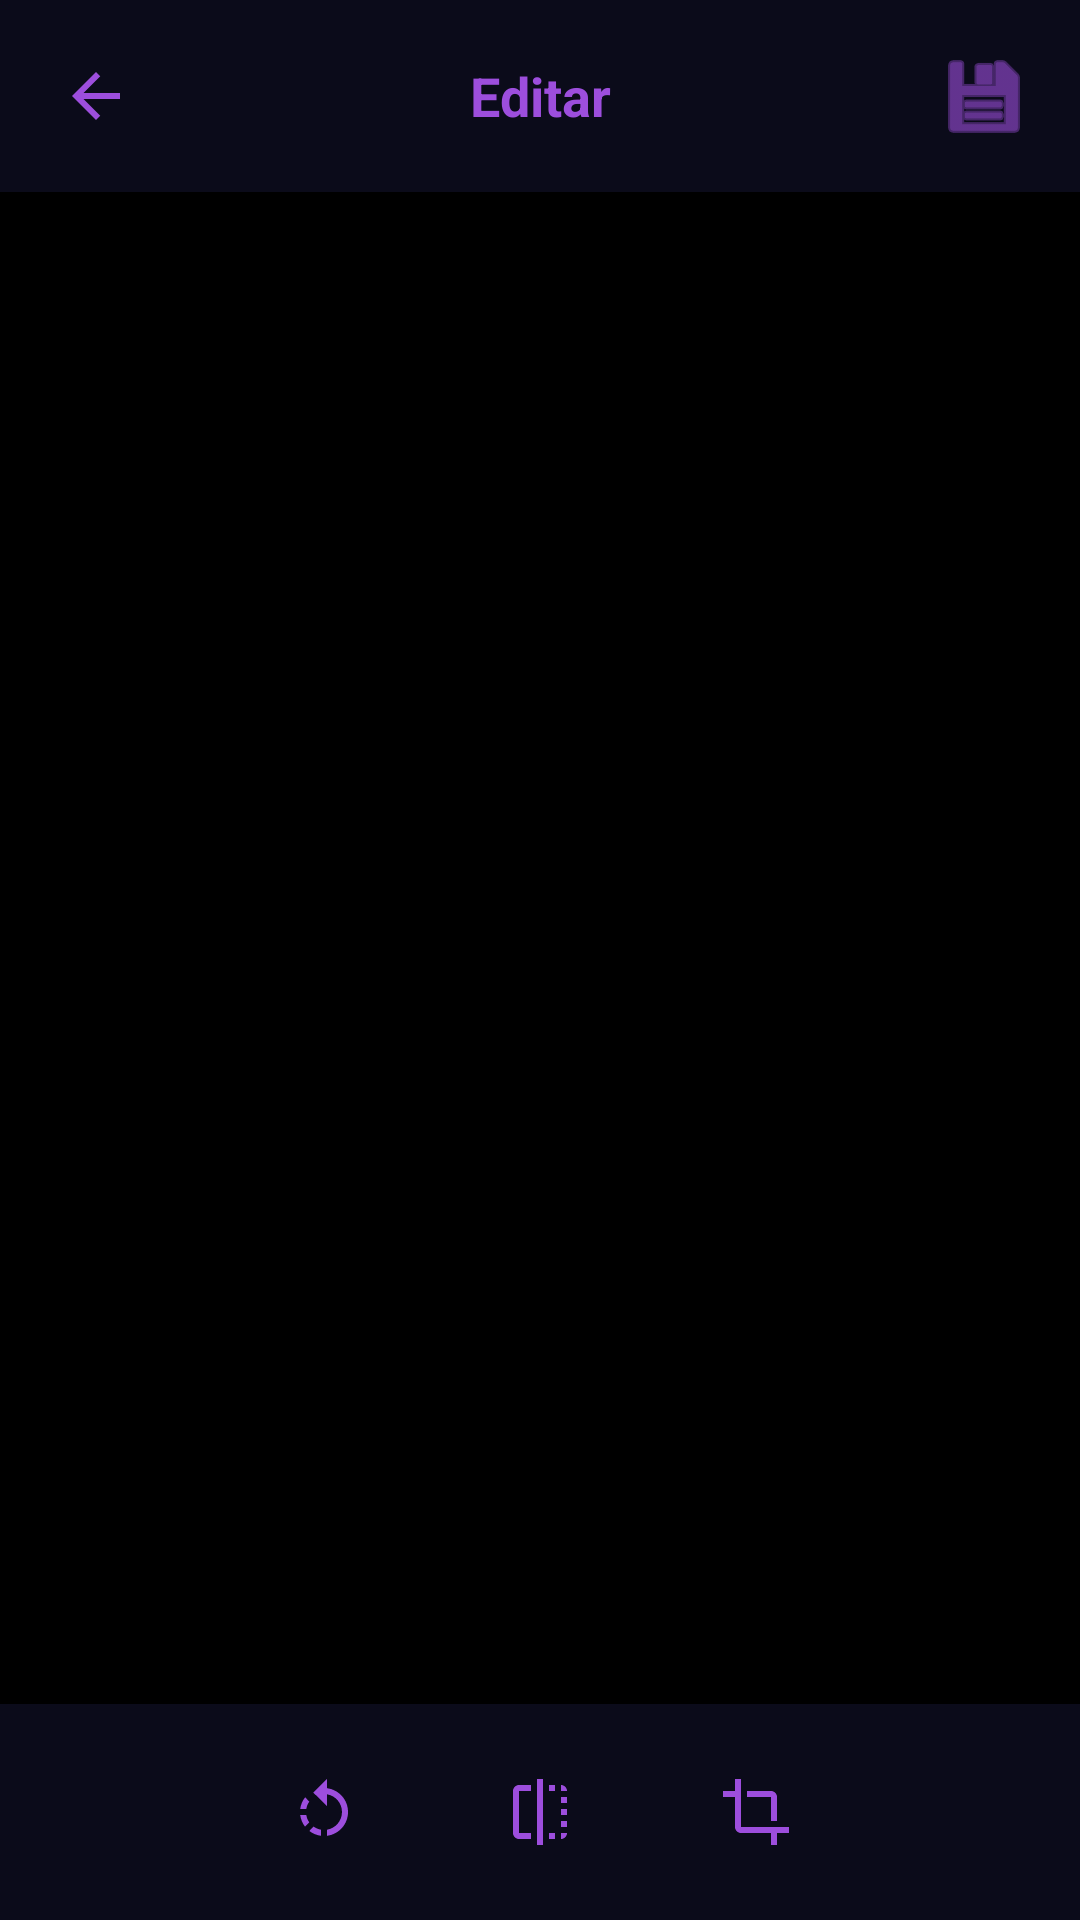

Icon bounding boxes for this 1080 × 1920 phone screenshot, format (x1, y1, x2, y2):
Atrás: (72, 72, 120, 120)
Guardar: (948, 60, 1020, 133)
Recortar: (723, 1779, 789, 1845)
Rotar: (300, 1779, 348, 1836)
Voltear: (513, 1779, 567, 1845)
